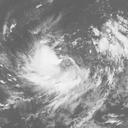cyclone: (20, 43, 68, 89)
